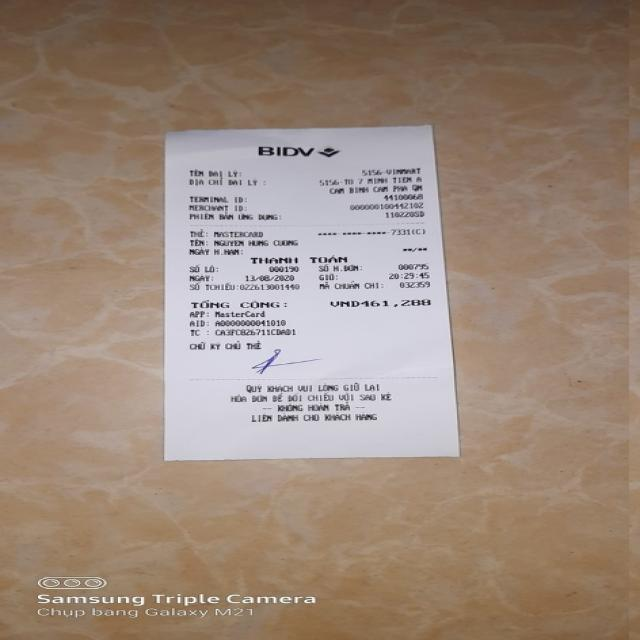Date: (242, 275, 297, 282)
Store_Name: (255, 143, 319, 159)
amount_number: (361, 298, 435, 308)
label_total: (190, 300, 281, 310)
